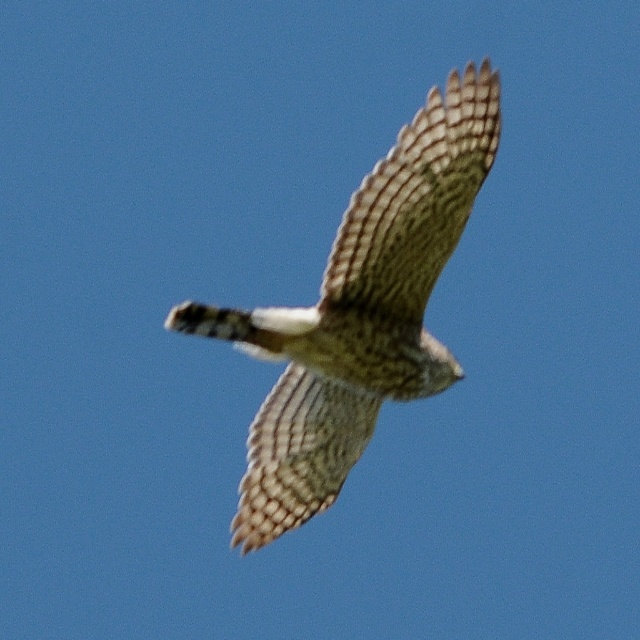Eagle: (162, 56, 502, 557)
